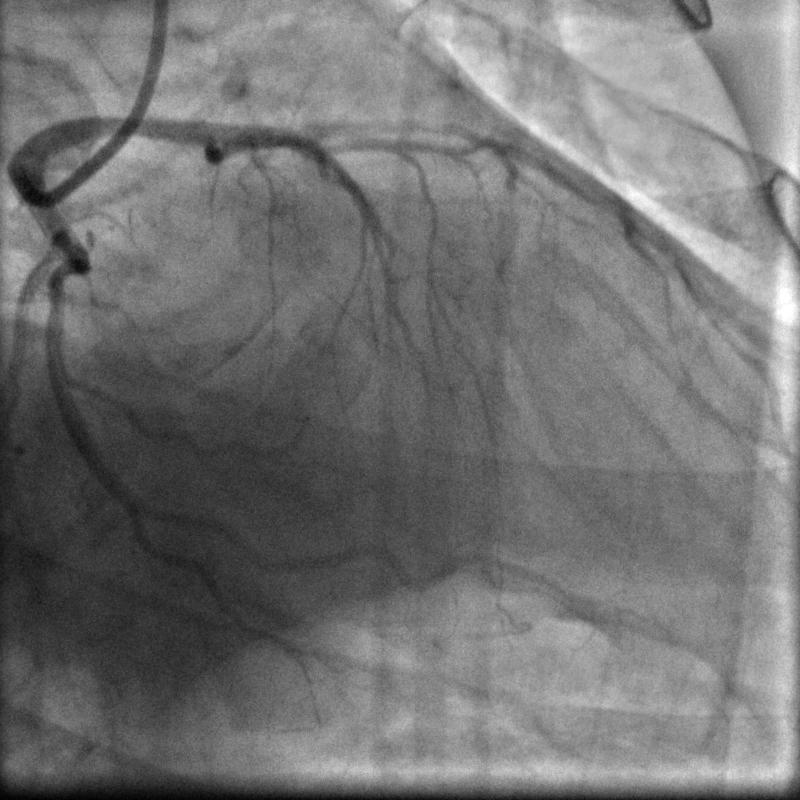Stenosis: (43, 244, 87, 305)
